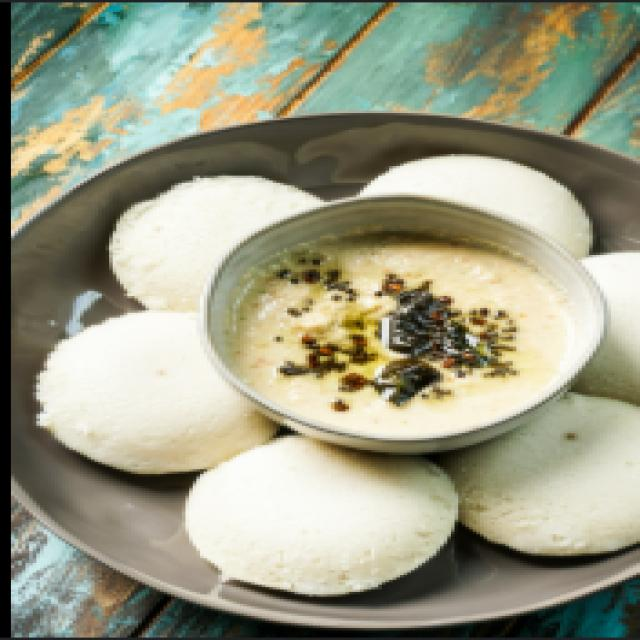coconut chutney: (275, 206, 576, 402)
